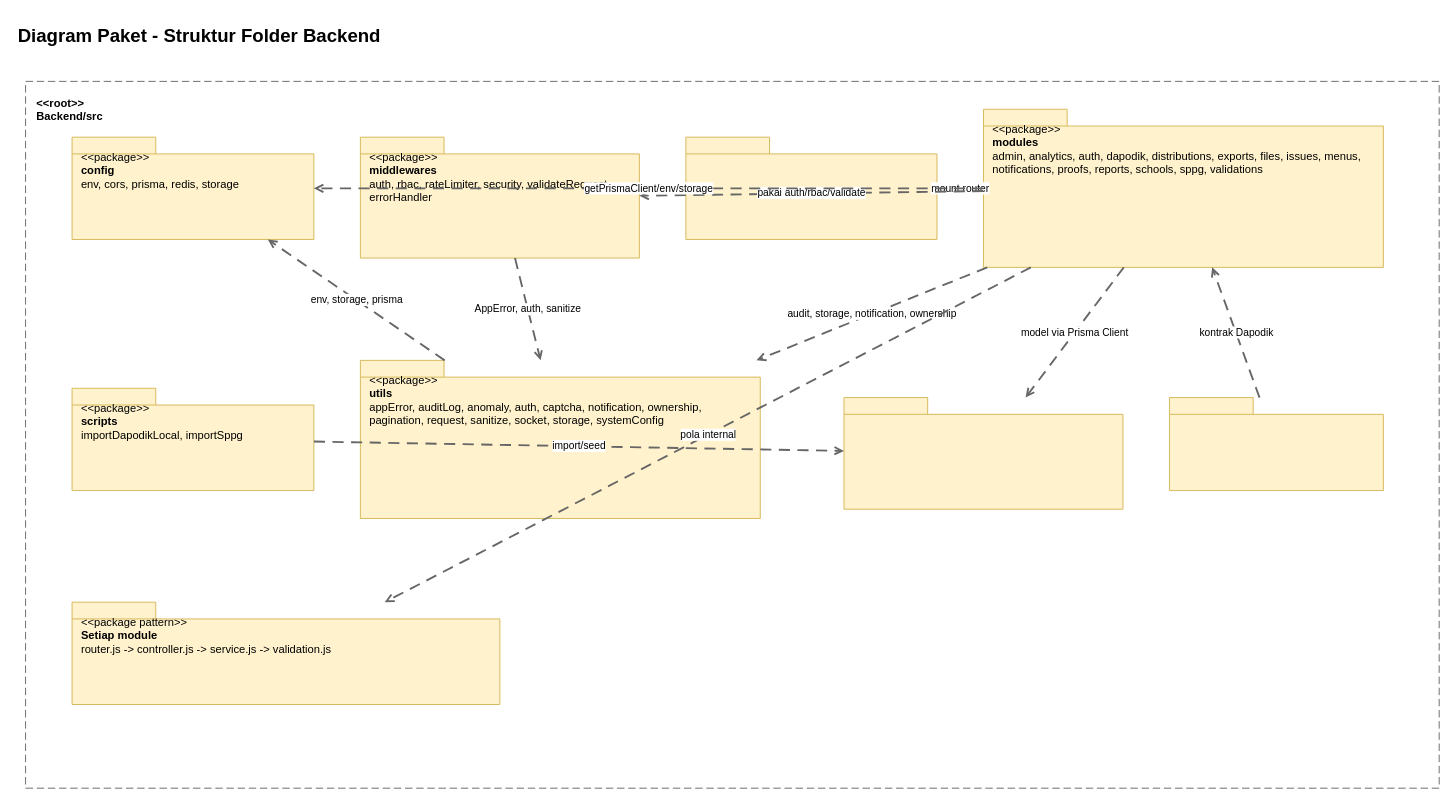
Some shapes in this 1455 by 804 pixel diagram are drawn without their labels. The centre of each missing label's shape, as x and y in pixels:
"<<package>> Backend/docs dapodik-endpoints.md" goes at (1276,444).
"<<package>> Backend/prisma schema.prisma, migrations, seed" goes at (983,453).
"<<package>> routes index.js mount semua module router" goes at (811,187).
